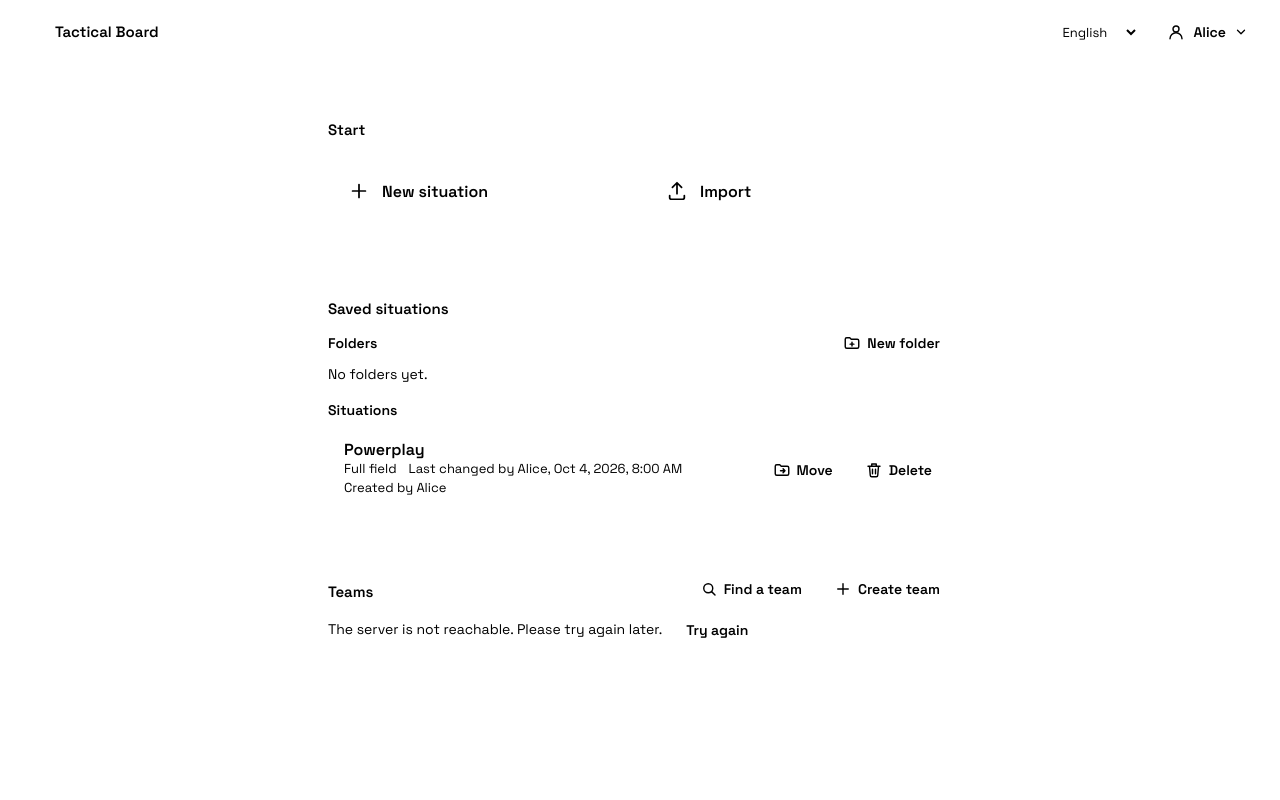
start page › saved situations › deletes a situation after confirmation and reloads the list
What coordinates should you click on to do the following:
click the button with aria-label "Delete “Powerplay”"
I would click on:
 (898, 470)
Its box is [853,460,944,478].
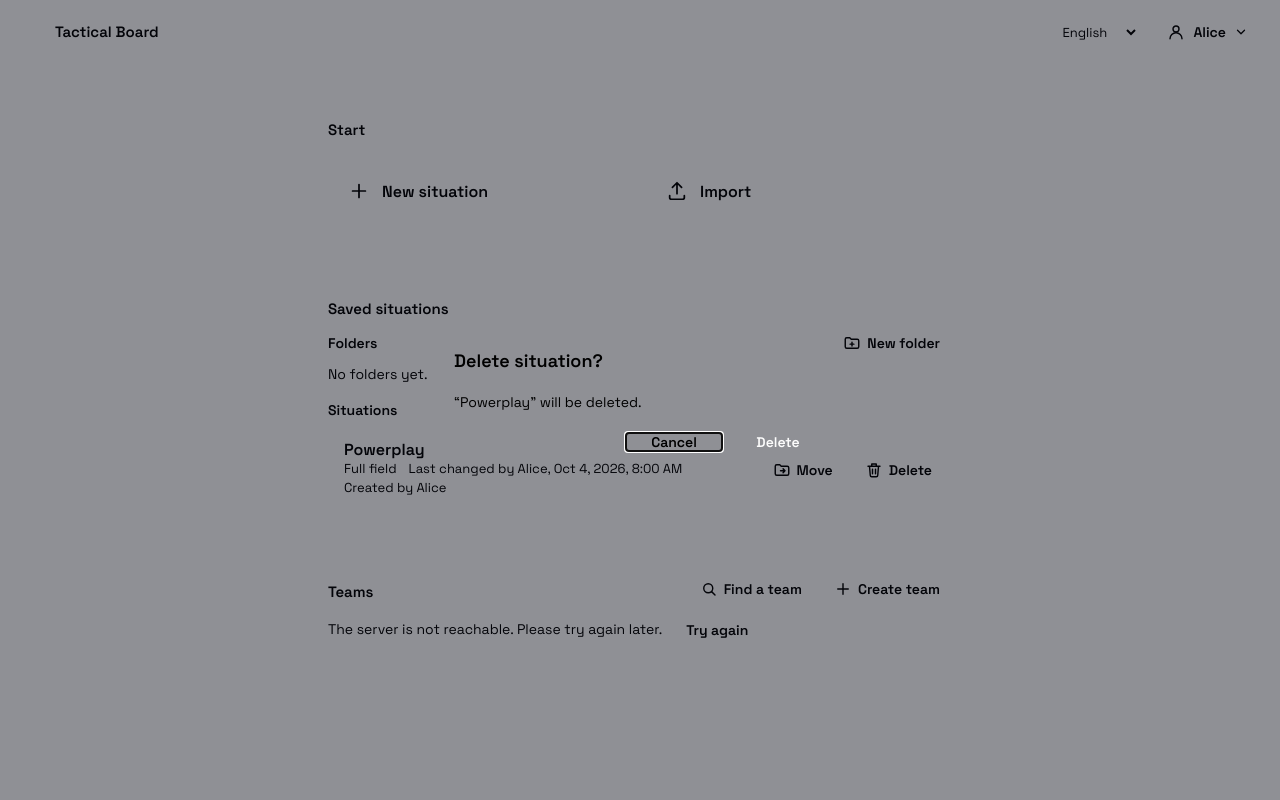
What coordinates should you click on to do the following:
click the button "Delete"
I would click on:
 (778, 442)
Its box is [730,433,826,451].
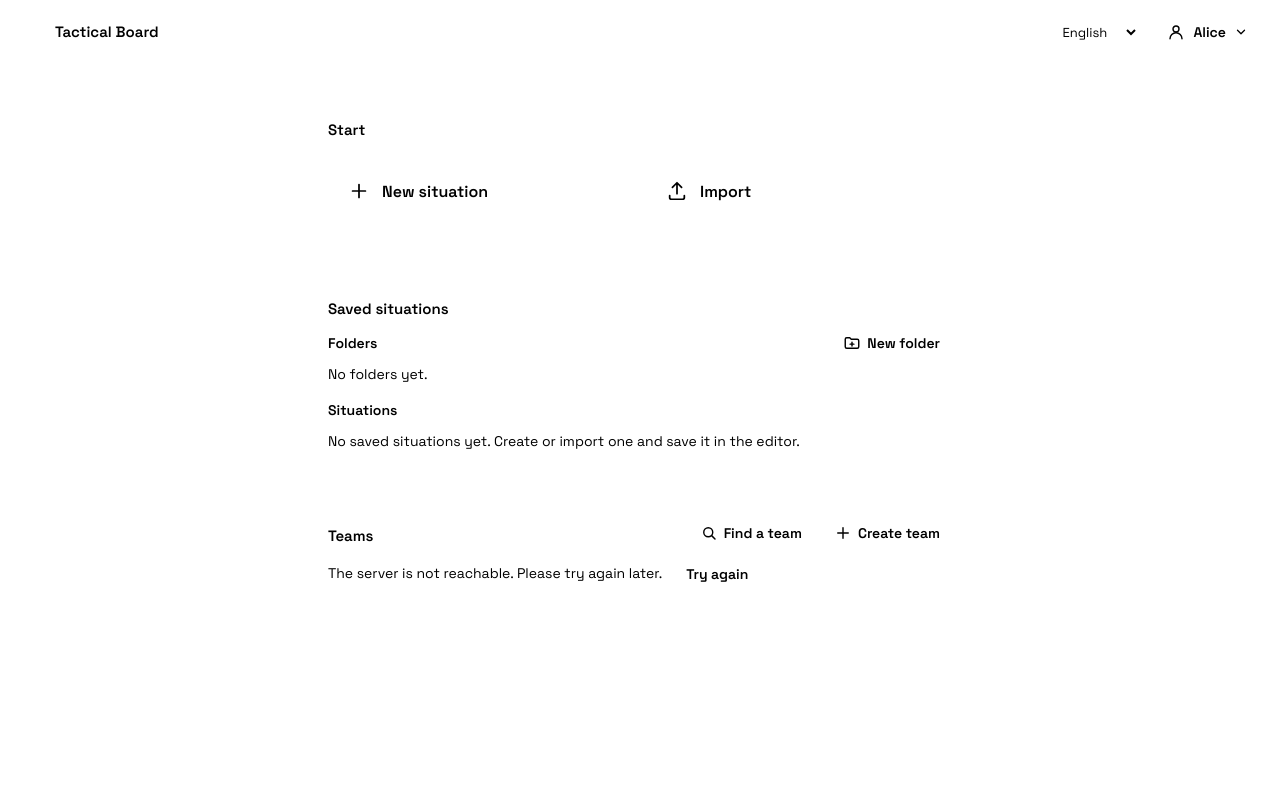
Expected: the element "Saved situations" shows "No saved situations yet.", [328,432,800,450]
